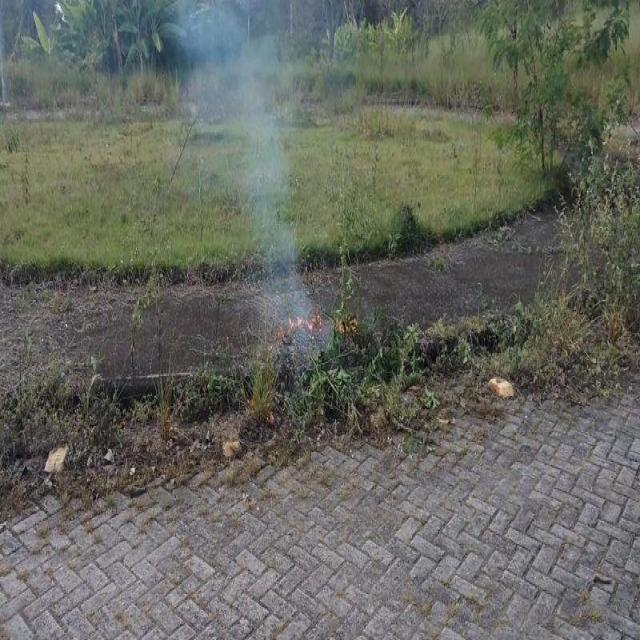Fire: (288, 314, 322, 332)
Smoke: (178, 0, 288, 196), (260, 198, 312, 316)
